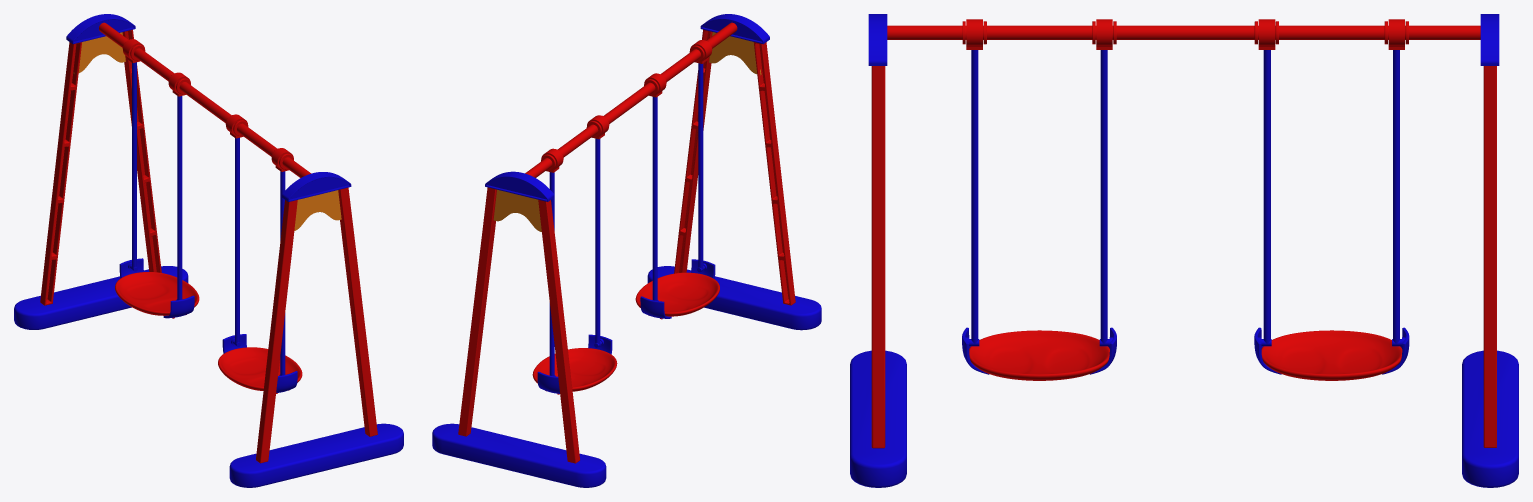
File: swing.fbx
3 views of the same model, side by side, from view 1: azimuth 30°, elevation 25°; view 2: azimuth 150°, elevation 25°; view 3: azimuth 270°, elevation 25° (orthographic). The views are drawn at different scales.
Parts seen in each view (by area): view 1: poles, holder, top_pole, sit_2, side_top, Subdivision_Surface_1_2, dcr, sit, Subdivision_Surface_1, swing, Subdivision_Surface_2, Subdivision_Surface; view 2: poles, holder, top_pole, Subdivision_Surface_1, sit, side_top, dcr, sit_2, Subdivision_Surface_1_2, swing, Subdivision_Surface, Subdivision_Surface_2; view 3: holder, poles, top_pole, sit_2, sit, Subdivision_Surface_1, Subdivision_Surface_1_2, swing, side_top.
Part boxes in pixels (x1,y1,x2,y2): poles: (40, 29, 377, 463); holder: (14, 266, 403, 487); top_pole: (99, 22, 310, 177); sit_2: (115, 272, 199, 315); side_top: (66, 14, 351, 201); Subdivision_Surface_1_2: (130, 62, 182, 300); dcr: (73, 32, 341, 230); sit: (218, 347, 302, 390); Subdivision_Surface_1: (233, 137, 285, 375); swing: (123, 39, 293, 171); Subdivision_Surface_2: (119, 258, 194, 318); Subdivision_Surface: (222, 334, 297, 392); poles: (458, 29, 795, 463); holder: (432, 266, 821, 487); top_pole: (525, 22, 737, 177); Subdivision_Surface_1: (652, 63, 704, 300); sit: (635, 272, 719, 316); side_top: (485, 14, 769, 201); dcr: (493, 32, 761, 231); sit_2: (532, 348, 617, 391); Subdivision_Surface_1_2: (549, 138, 601, 376); swing: (541, 40, 711, 172); Subdivision_Surface: (640, 259, 715, 318); Subdivision_Surface_2: (537, 334, 612, 393); holder: (850, 350, 1518, 487); poles: (871, 66, 1496, 448); top_pole: (887, 21, 1480, 44); sit_2: (1261, 330, 1402, 380); sit: (969, 330, 1109, 380); Subdivision_Surface_1: (969, 50, 1109, 346); Subdivision_Surface_1_2: (1261, 50, 1401, 346); swing: (966, 19, 1404, 49); side_top: (868, 14, 1499, 65).
Size of the model in its own units: 200 by 327 by 483.
